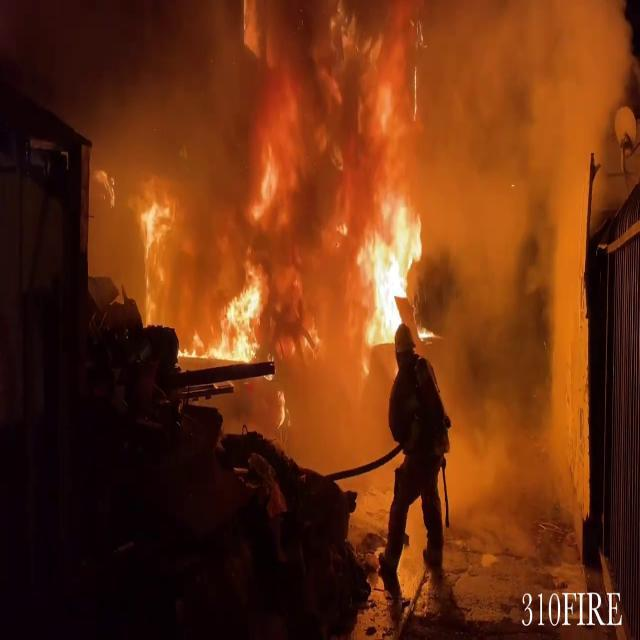Fire: (350, 120, 438, 372), (194, 248, 294, 366)
Smoke: (83, 6, 460, 457), (417, 0, 633, 555)
